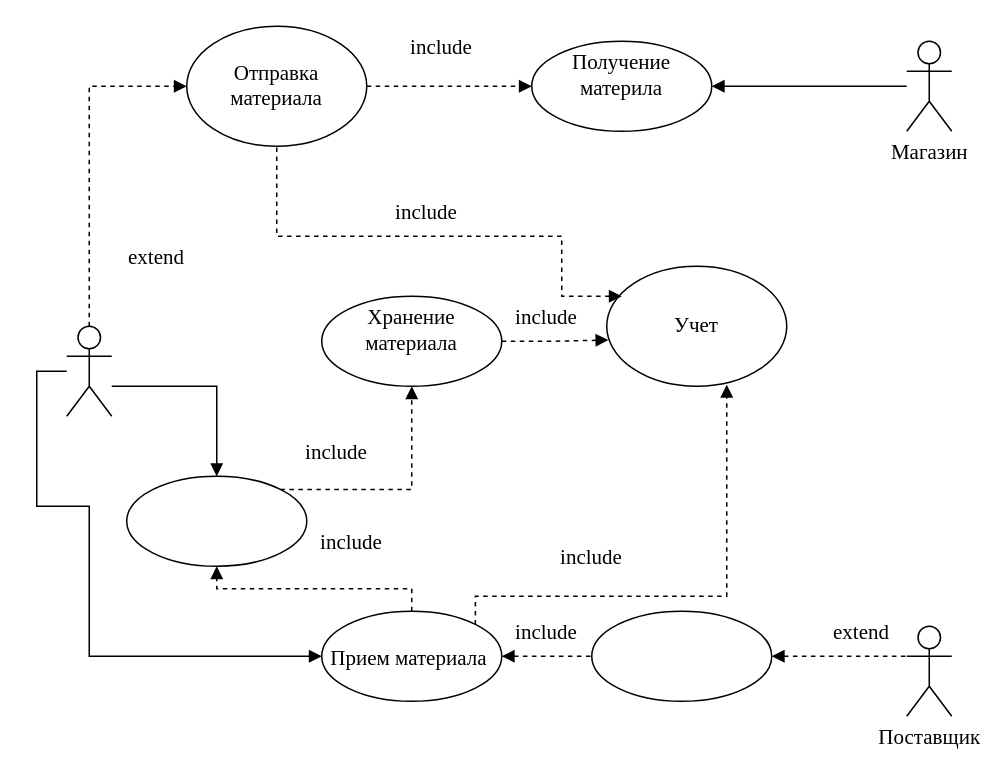
Some shapes in this 1007 by 779 pixel diagram are drawn without their labels. The shapes that lost their labels are listed below. From the top down, each one's centre as x and y in pixels, then its label:
At pixel 88 370: "Склад".
At pixel 216 520: "Размещение материала".
At pixel 681 655: "Поставка материала".
